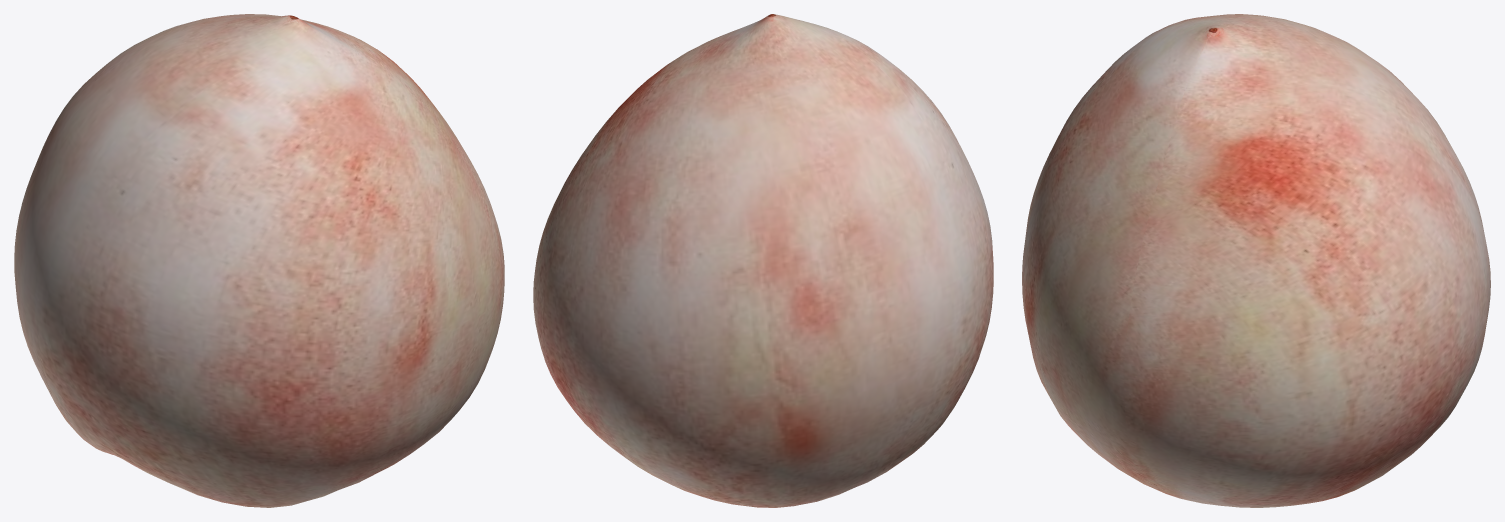
File: honey_peach.fbx
3 renders of one model, left to right at view 1: azimuth 30°, elevation 25°; view 2: azimuth 150°, elevation 25°; view 3: azimuth 270°, elevation 25°, orthographic. The views are drawn at different scales.
Visible parts, largest first — view 1: HoneyPeachPeel; view 2: HoneyPeachPeel; view 3: HoneyPeachPeel.
Part boxes in pixels (box(x1,y1,x2,y2)): HoneyPeachPeel: box(14, 14, 504, 507); HoneyPeachPeel: box(533, 14, 993, 507); HoneyPeachPeel: box(1022, 14, 1490, 507).
Size of what is drawn, in the model's own units: 10.74 by 10.46 by 10.97.
